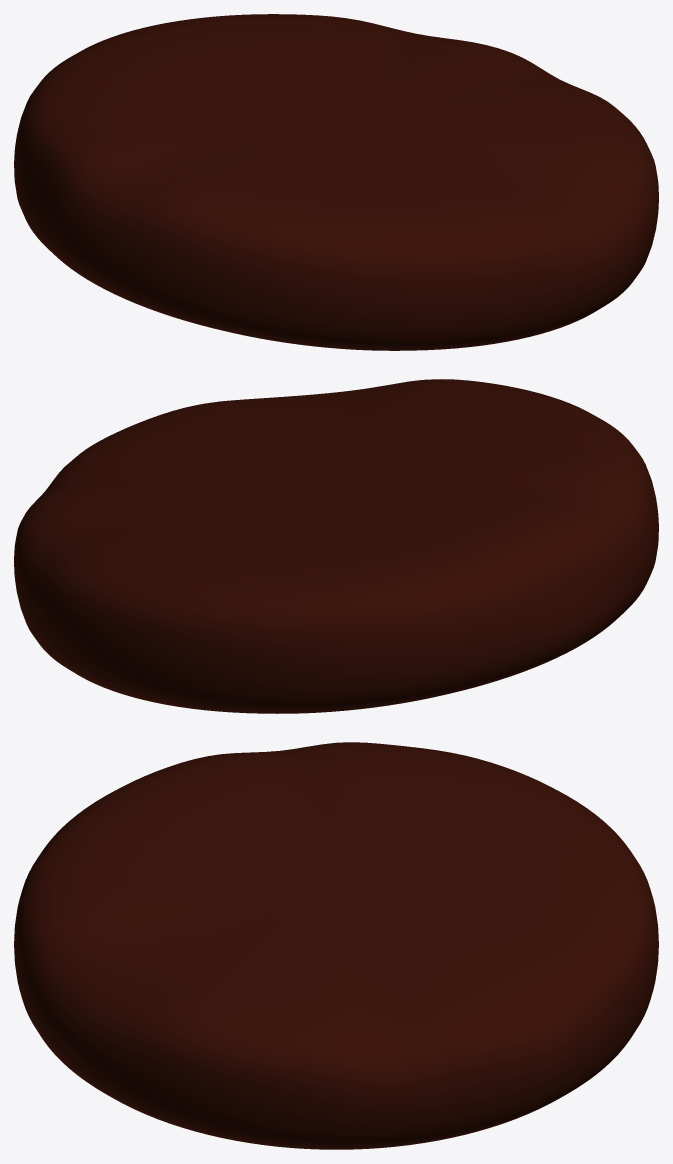
The model's file is patty.obj.
3 views of the same model, one above another, from view 1: azimuth 30°, elevation 25°; view 2: azimuth 150°, elevation 25°; view 3: azimuth 270°, elevation 25° (orthographic).
Parts seen in each view (by area): view 1: cutlet; view 2: cutlet; view 3: cutlet.
Boxes of the visible parts, box(x1,y1,x2,y2) form: cutlet: box(14, 14, 658, 350); cutlet: box(14, 379, 658, 713); cutlet: box(14, 742, 658, 1149).
Size of the model in its own units: 2 by 0.6002 by 2.01.
